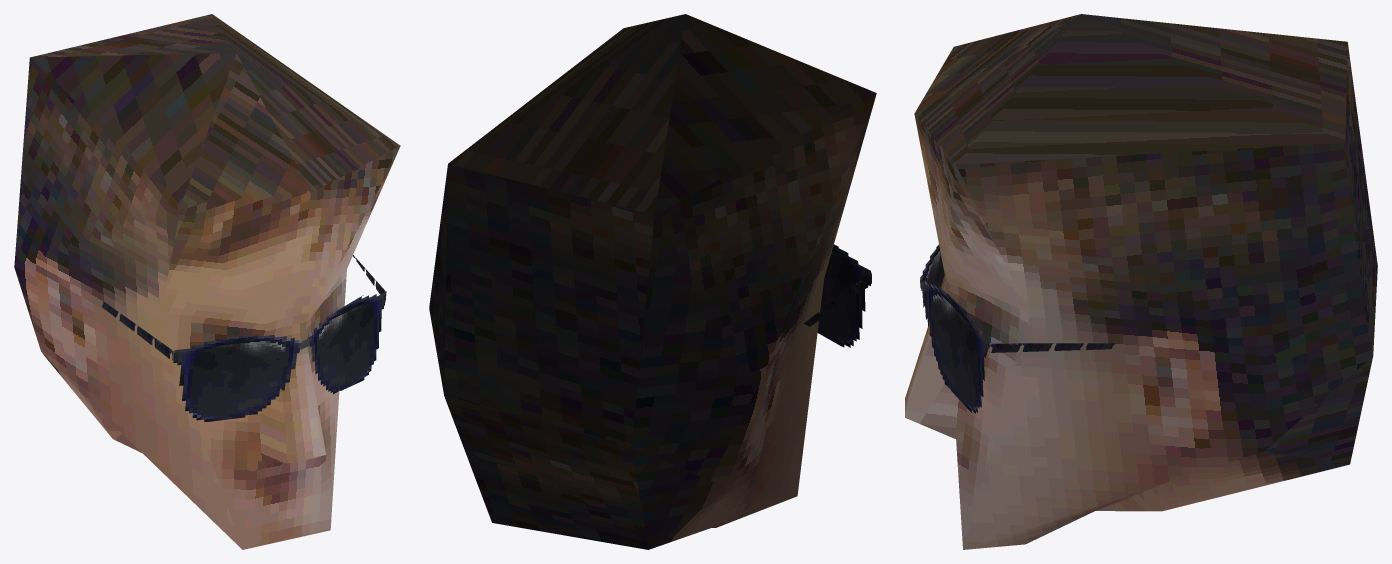
Rendered from CheadpeteZ.obj.
3 views of the same model, side by side, from view 1: azimuth 30°, elevation 25°; view 2: azimuth 150°, elevation 25°; view 3: azimuth 270°, elevation 25° (orthographic). The views are drawn at different scales.
Bounding box in the file's own units: 161 × 253 × 204.
6 materials, 6 textured.
